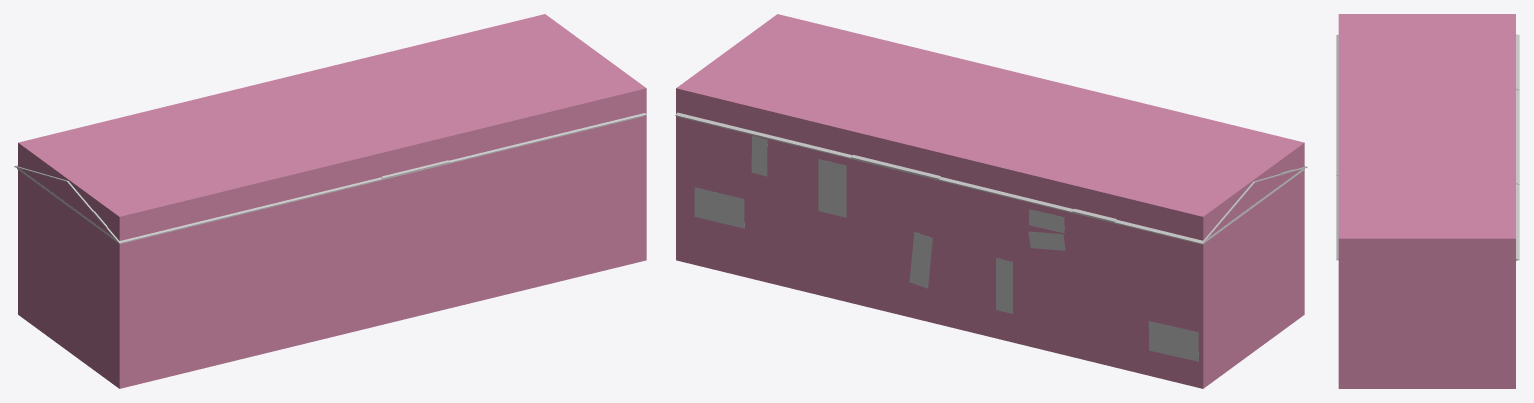
Rendered from ind_bld_tin_01_blocker_b.dae.
The picture shows the model from 3 angles, left to right: view 1: azimuth 30°, elevation 25°; view 2: azimuth 150°, elevation 25°; view 3: azimuth 270°, elevation 25°; orthographic projection. The views are drawn at different scales.
Visible parts, largest first — view 1: Untitled, ind_bld_a300; view 2: Untitled, ind_bld_a300; view 3: Untitled, ind_bld_a300.
Part boxes in pixels (x1,y1,x2,y2): Untitled: [18, 14, 646, 388]; ind_bld_a300: [14, 113, 646, 243]; Untitled: [676, 14, 1304, 388]; ind_bld_a300: [675, 112, 1307, 361]; Untitled: [1338, 14, 1515, 388]; ind_bld_a300: [1336, 34, 1519, 260].
Size of the model in its own units: 24.4 by 8.4 by 7.6.
